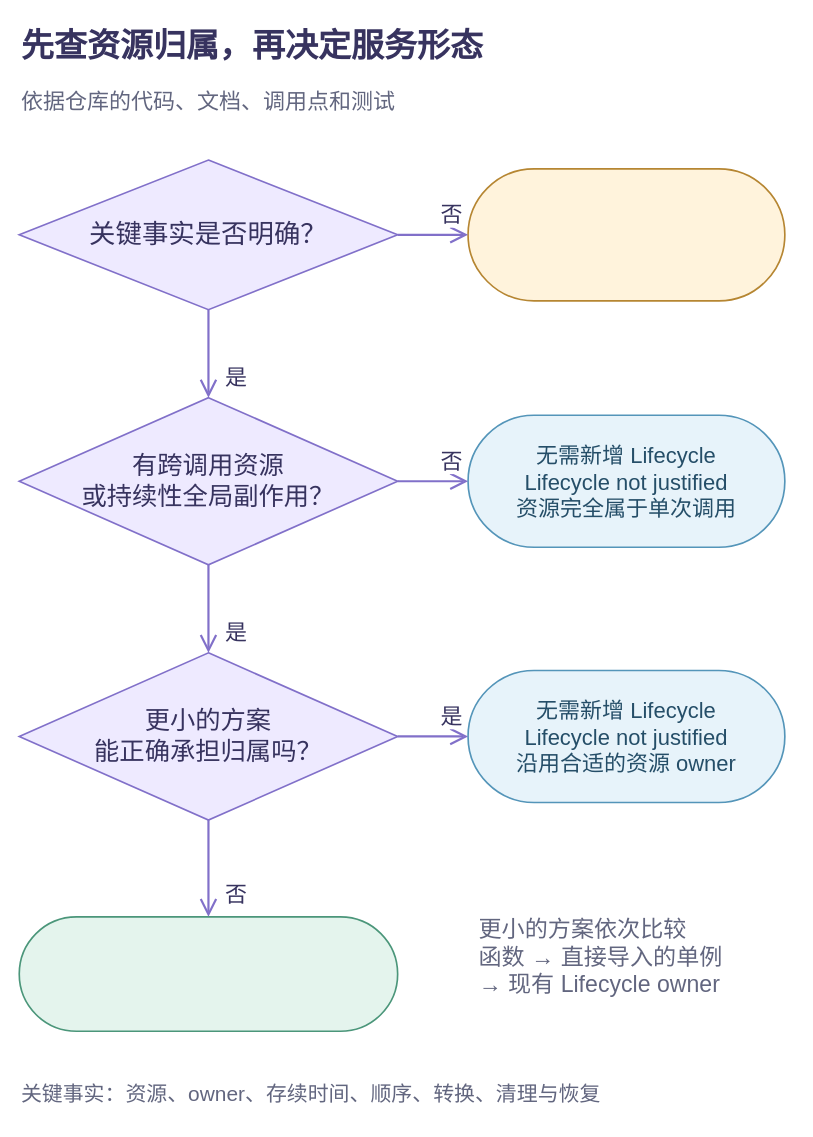
Some shapes in this 813 by 1137 pixel diagram are drawn without their labels. The shapes that lost their labels are listed below. From the top down, each one's centre as x and y in pixels, then its label:
the point at 626,234: 证据不足 Insufficient evidence 先补充事实
the point at 208,974: 需要独立生命周期归属 Lifecycle required
